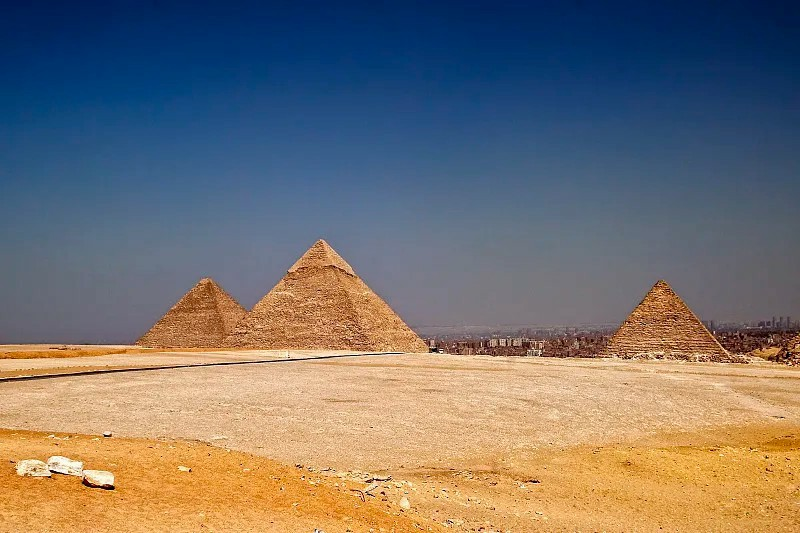Pyramid: (214, 240, 429, 354), (598, 280, 740, 363), (136, 278, 248, 348)
